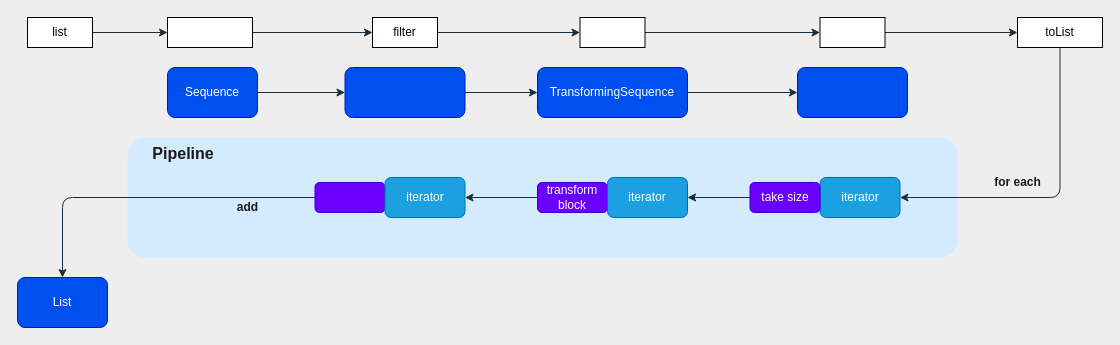
Some shapes in this 1120 by 345 pixel diagram are drawn without their labels. Here are the shapes that lost their labels. From the top down, the box of each, then its label:
(166, 16, 252, 48): asSequence
(579, 16, 645, 48): map
(819, 16, 885, 48): take
(344, 66, 465, 118): FilteringSequence
(796, 66, 908, 118): TakeSequence
(314, 182, 385, 212): filter block
